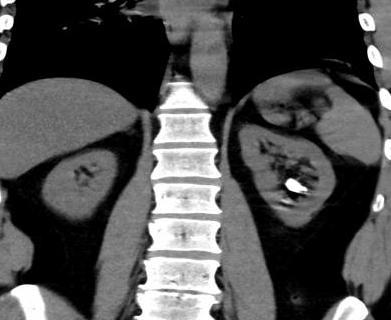Tas_Var: (284, 175, 312, 194), (270, 204, 291, 214), (280, 198, 296, 205)
